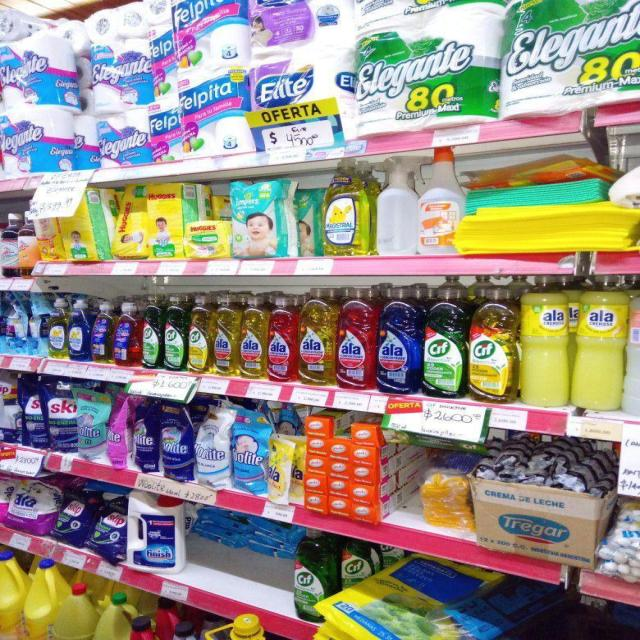ala_conc_amarillo: (298, 288, 335, 387), (239, 294, 266, 380), (213, 294, 238, 376)
ala_conc_azul: (377, 284, 420, 394)
ala_conc_rojo: (336, 285, 375, 391), (268, 296, 296, 384)
ala_crem_amarillo: (572, 275, 625, 412), (519, 276, 570, 408)
ala_crem_blanco: (626, 273, 640, 420)
cif_conc_bot_amarilla: (468, 286, 516, 404), (188, 294, 212, 374)
cif_conc_botella_verde: (422, 285, 466, 398), (292, 530, 337, 623), (164, 294, 186, 371), (340, 539, 373, 587), (142, 294, 162, 369)
magistral_con_amarillo: (322, 166, 371, 256), (49, 296, 68, 359)
magistral_con_azul: (68, 297, 90, 361)
zorro: (114, 301, 140, 367), (91, 300, 112, 364)
